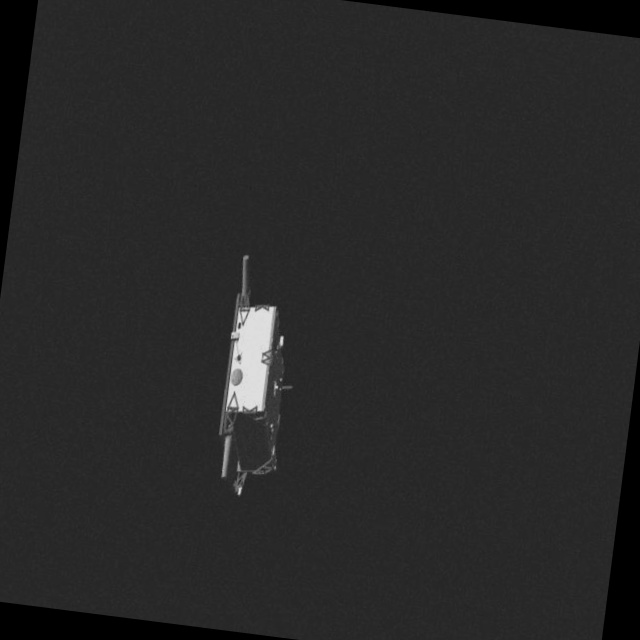satellite: (195, 230, 310, 518)
